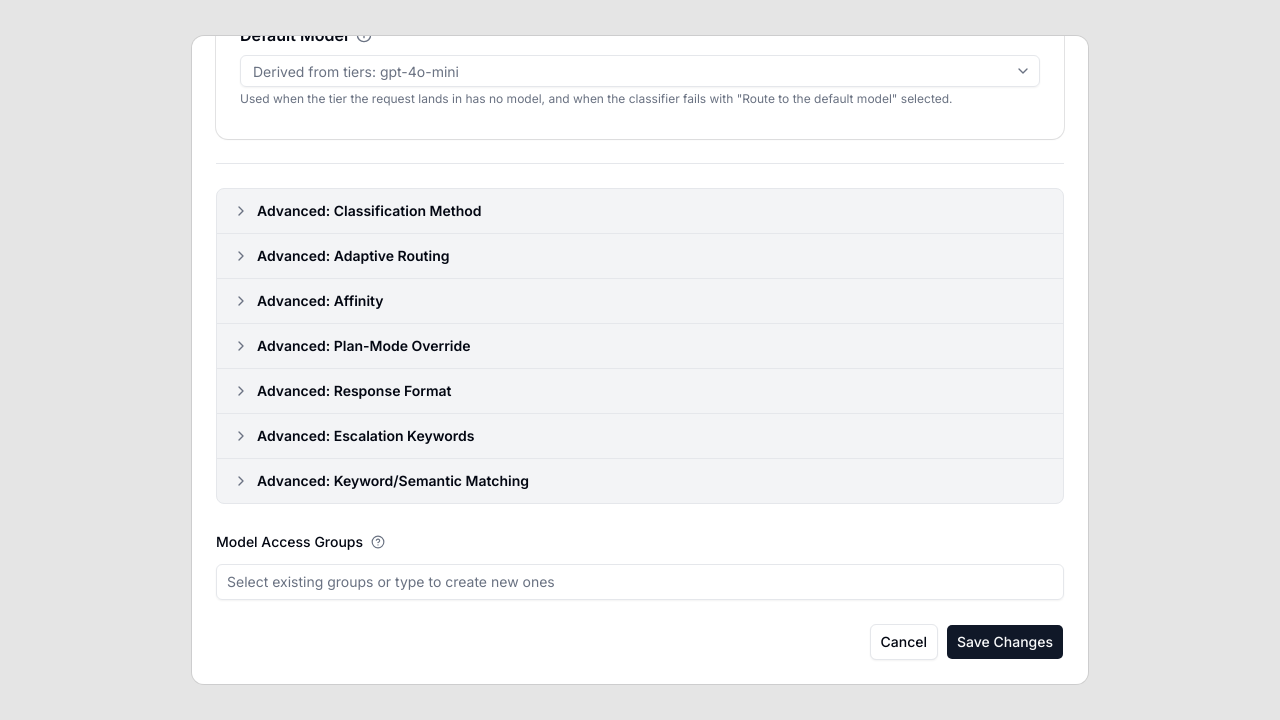
Test: EditAutoRouterModal keyword matching › gives the save back once the added keyword rule is filled
(page scrolled)
Expected: the text "Advanced: Escalation Keywords" is shown, [257,426,474,446]
Click the button "Advanced: Keyword/Semantic Matching" at coordinates (393, 481), box [217,459,1063,503]
(page scrolled)
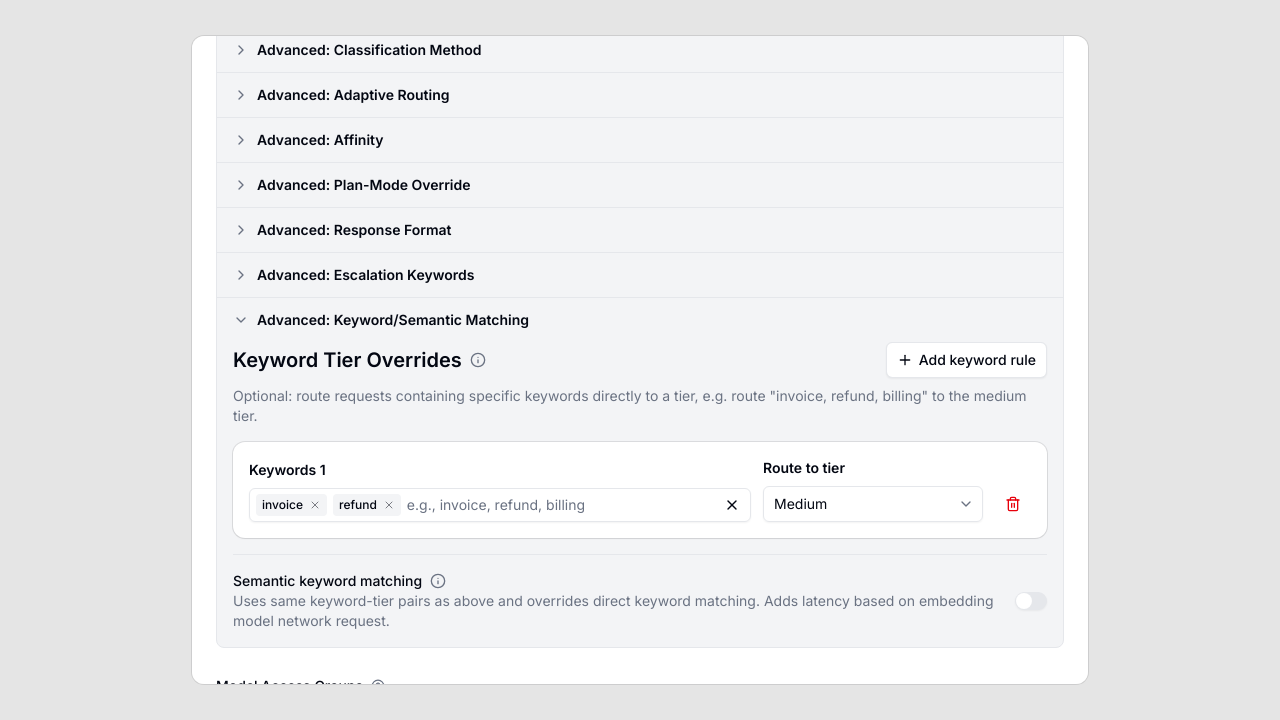
Click the button "Add keyword rule" at coordinates (966, 360), box [886,342,1047,378]
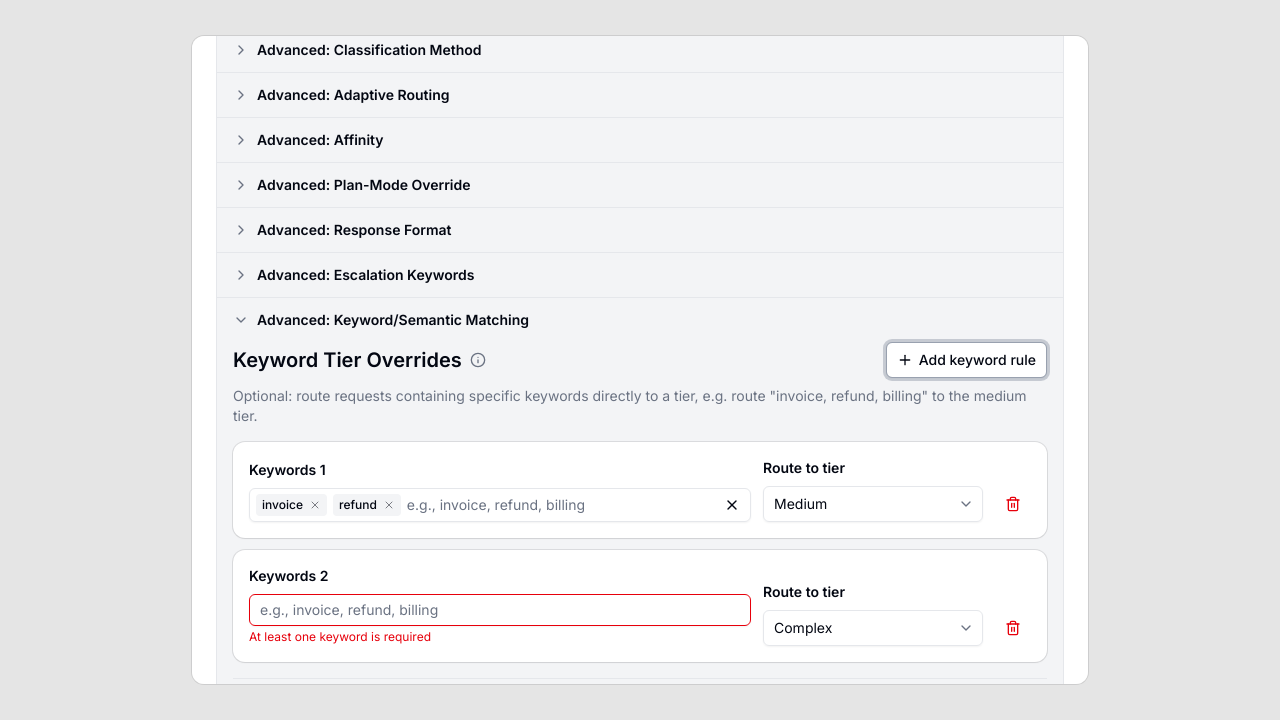
Type "chargeback" into the 2nd dropdown with placeholder "e.g., invoice, refund, billing" at coordinates (500, 610), box [260,600,740,620]
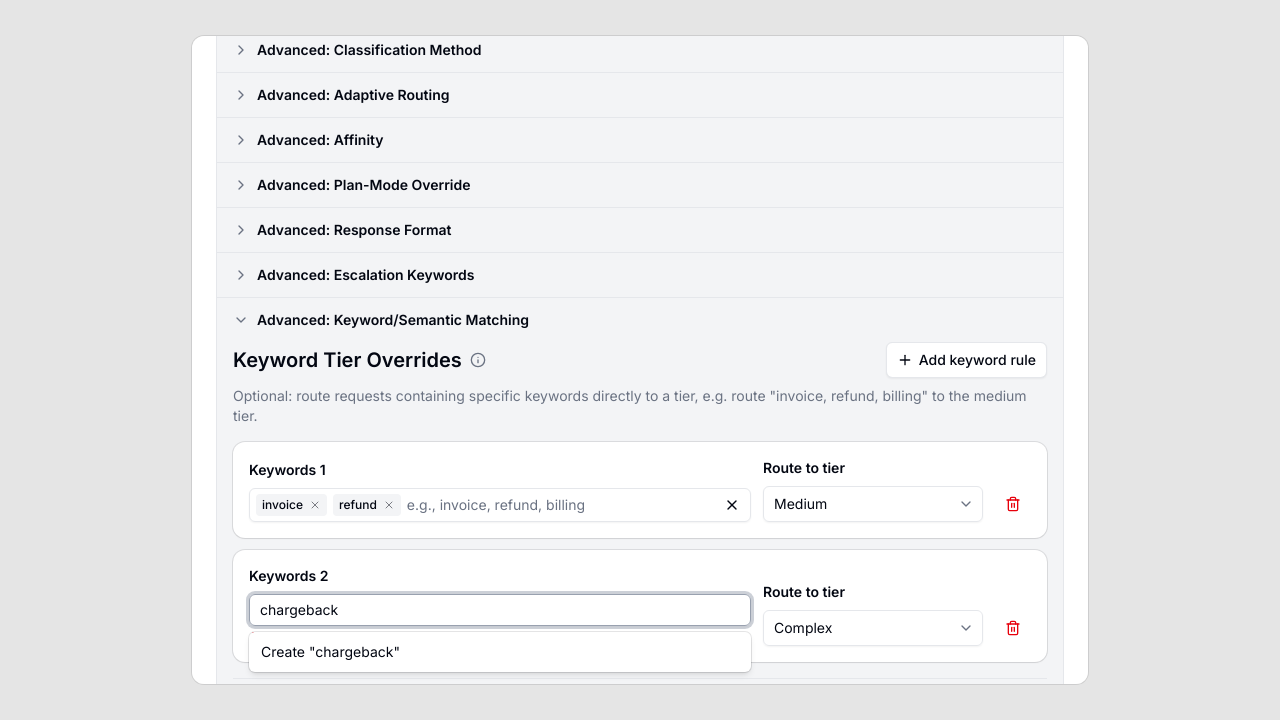
Click the option "Create \"chargeback\"" at coordinates (330, 652), box [261,643,400,660]
(page scrolled)
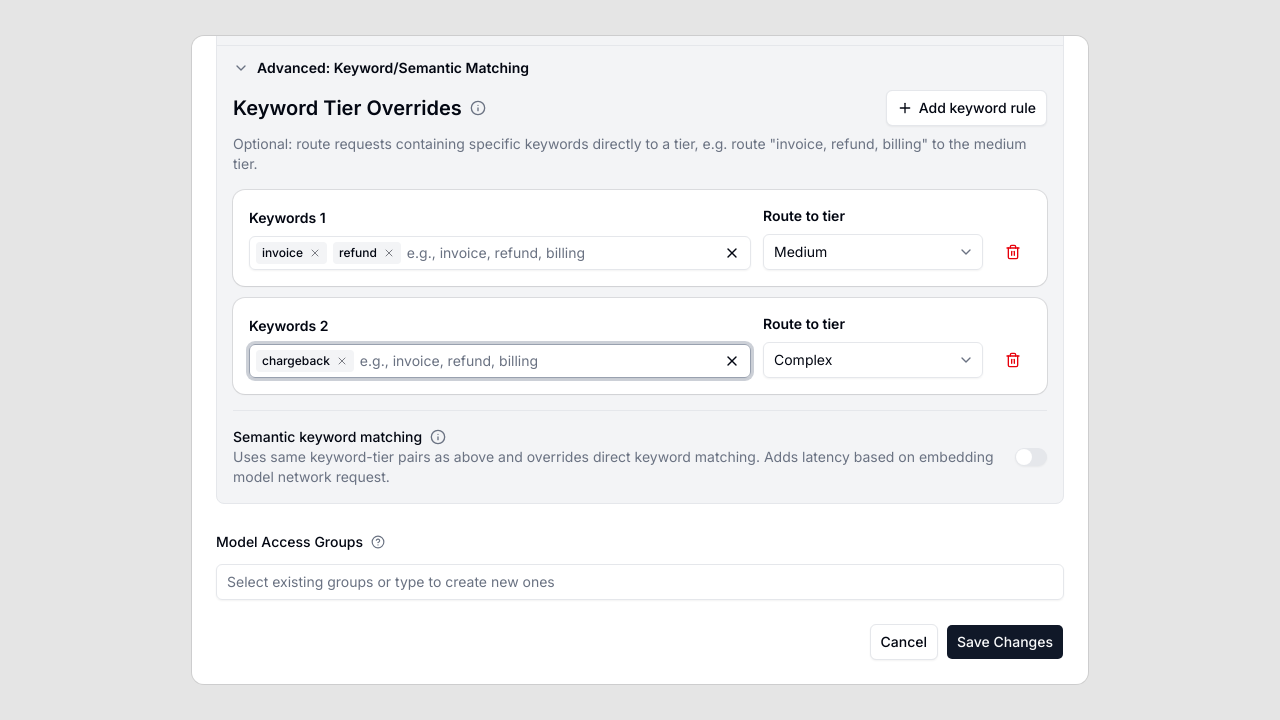
Now the button "Save Changes" is enabled, box [946,624,1064,660]
Now the text "At least one keyword is required" is gone
